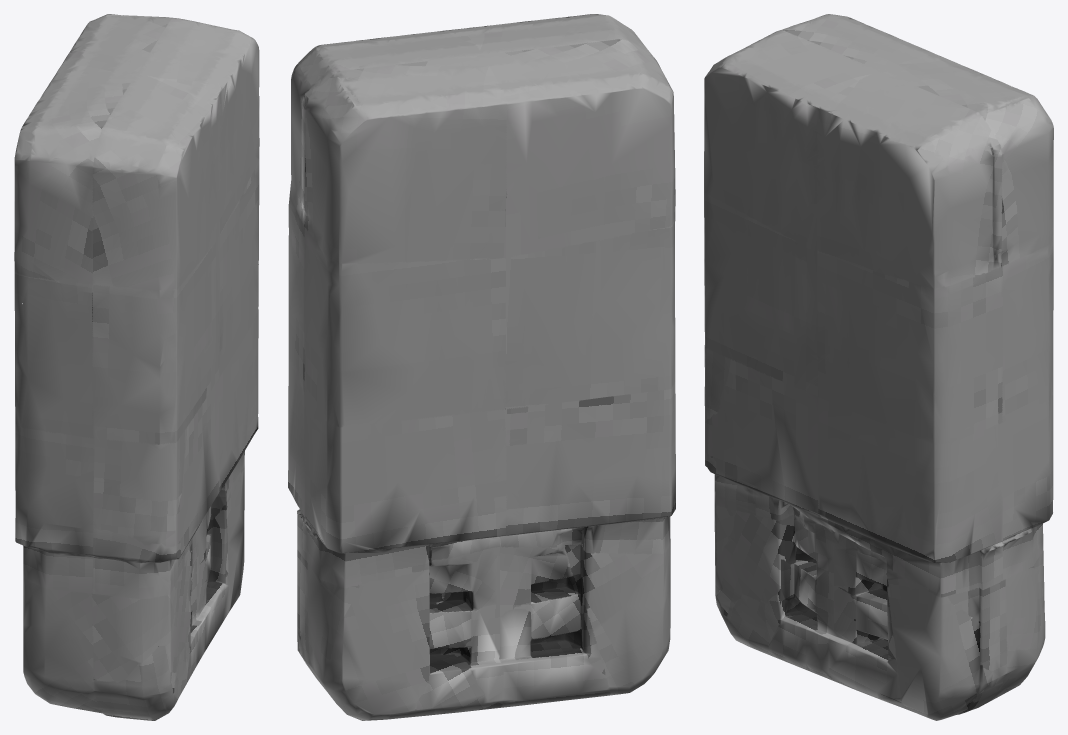
Rendered from s_usb_stick.glb.
3 views of the same model, side by side, from view 1: azimuth 30°, elevation 25°; view 2: azimuth 150°, elevation 25°; view 3: azimuth 270°, elevation 25° (orthographic). The views are drawn at different scales.
Parts seen in each view (by area): view 1: tripo_node_ddcb131e-03c5-40f5-9653-110b05d10c37; view 2: tripo_node_ddcb131e-03c5-40f5-9653-110b05d10c37; view 3: tripo_node_ddcb131e-03c5-40f5-9653-110b05d10c37.
Boxes of the visible parts, <box> form: tripo_node_ddcb131e-03c5-40f5-9653-110b05d10c37: <box>14,14,259,720</box>; tripo_node_ddcb131e-03c5-40f5-9653-110b05d10c37: <box>288,14,675,720</box>; tripo_node_ddcb131e-03c5-40f5-9653-110b05d10c37: <box>704,14,1053,720</box>.
Size of the model in its own units: 0.5311 by 0.9998 by 0.5289.
1 material, 1 textured.
